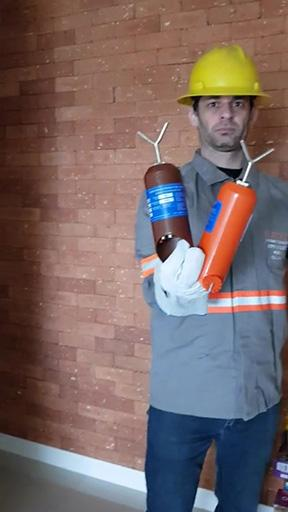Detector_Tensao_Contato: (196, 140, 276, 293), (135, 120, 194, 263)
